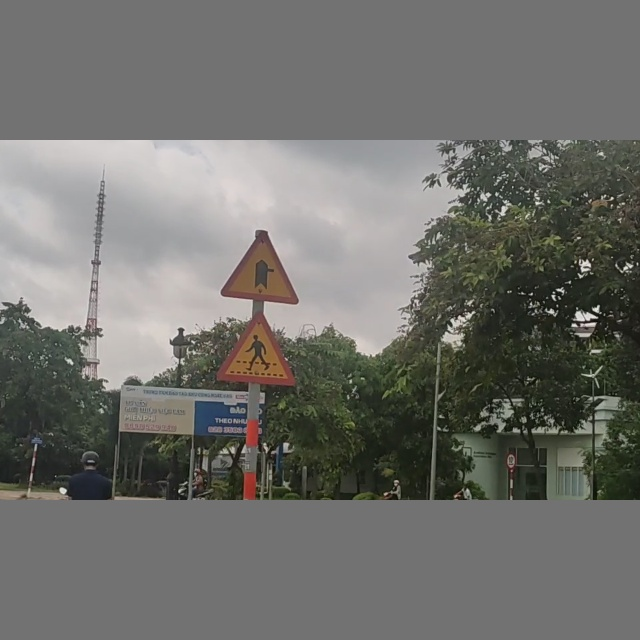W.207: (220, 230, 299, 303)
W.224: (215, 312, 297, 386)
